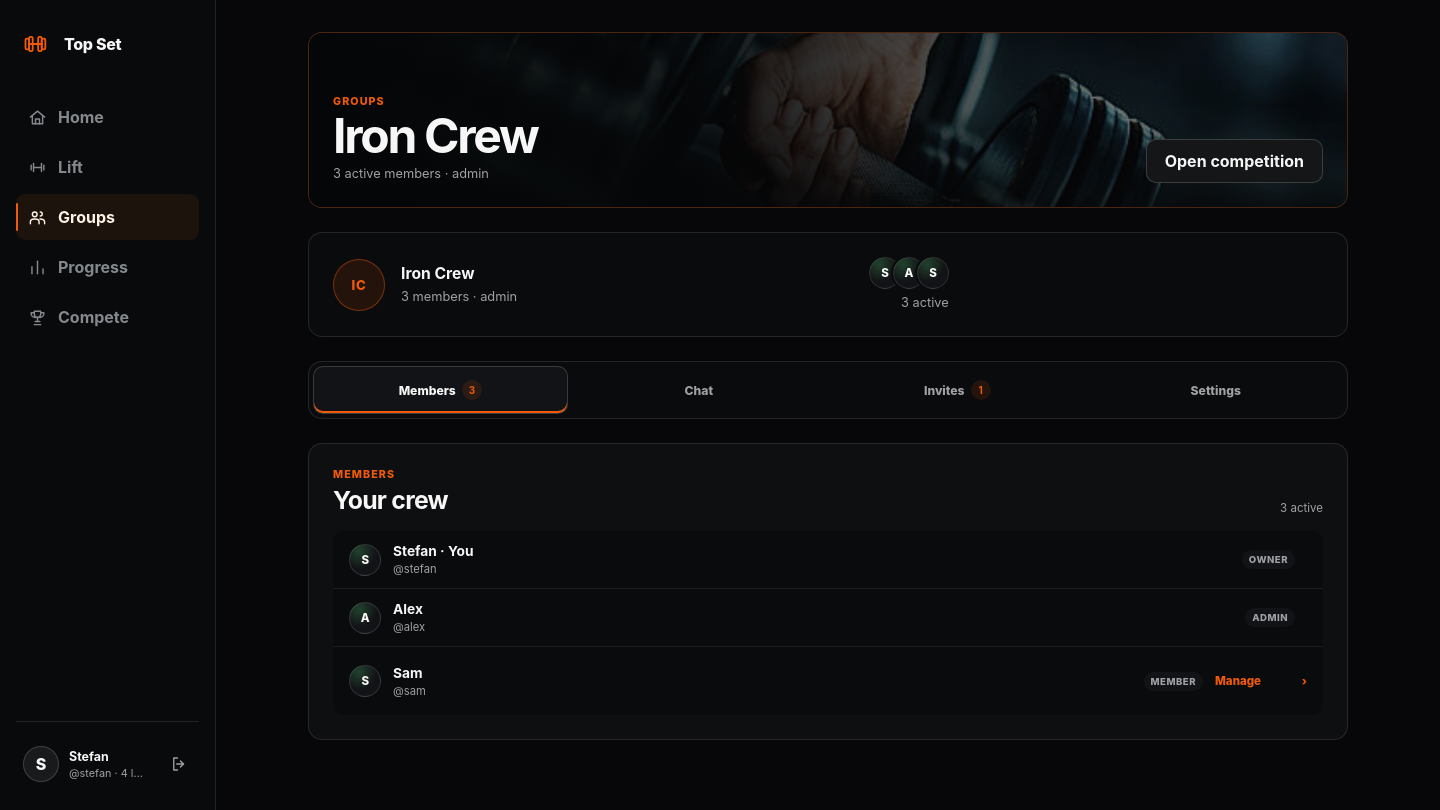
Test: GroupAdministrationScreen › limits an admin to removing ordinary members from the focused sheet
The width and height of the screenshot is (1440, 810).
Click the button with aria-label "Manage Sam" at [1261, 681], box [1215,659,1307,703]
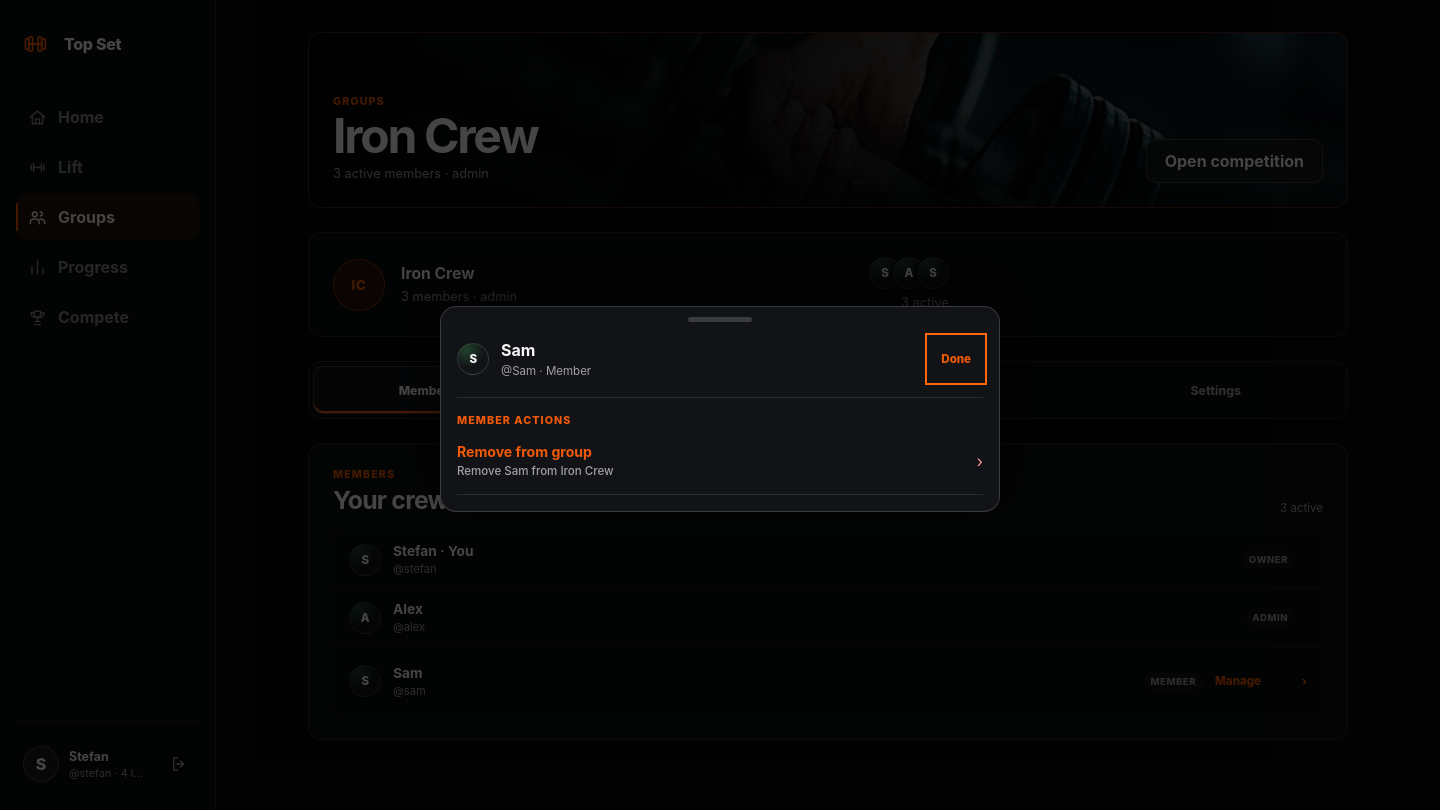
Now the button "Remove from group" is shown, box [457,427,983,495]
